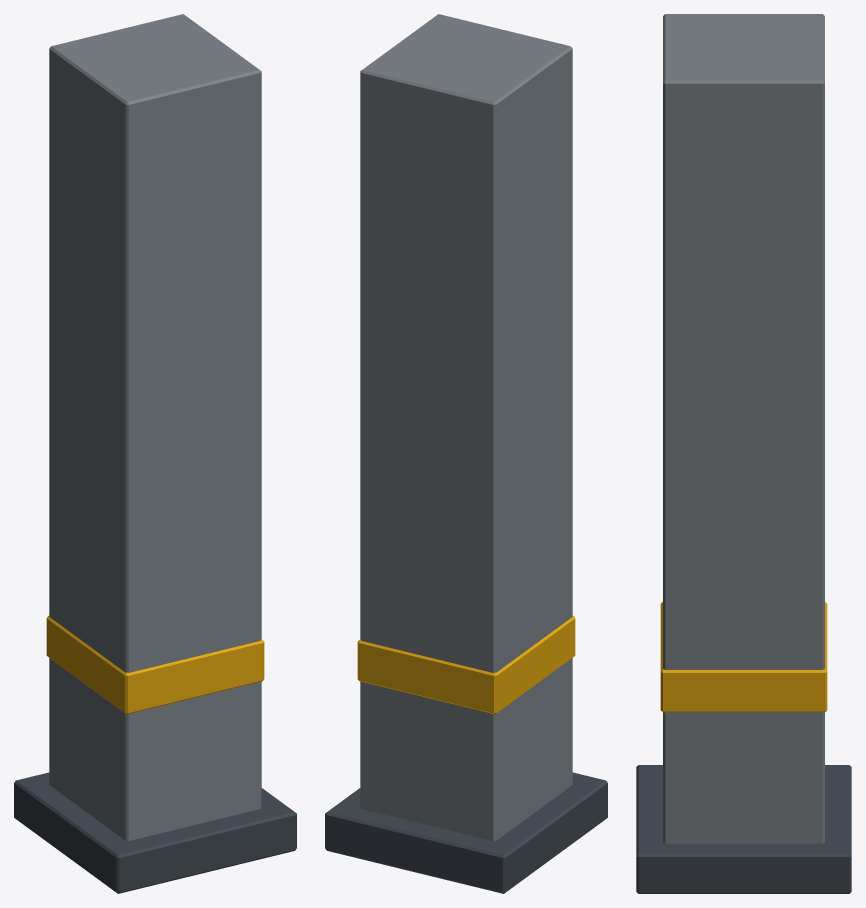
Rendered from ConcreteSupportSquare.fbx.
The picture shows the model from 3 angles, left to right: view 1: azimuth 30°, elevation 25°; view 2: azimuth 150°, elevation 25°; view 3: azimuth 270°, elevation 25°; orthographic projection. The views are drawn at different scales.
Visible parts, largest first — view 1: ConcreteSupportSquare; view 2: ConcreteSupportSquare; view 3: ConcreteSupportSquare.
Part boxes in pixels (x1,y1,x2,y2): ConcreteSupportSquare: (14,14,296,893); ConcreteSupportSquare: (325,14,607,893); ConcreteSupportSquare: (636,14,851,893).
Bounding box in the file's own units: 73 × 300 × 73.
1 material, 1 textured.
